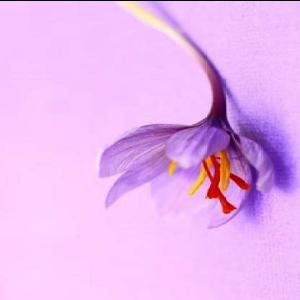Saffron: (96, 82, 274, 221)
